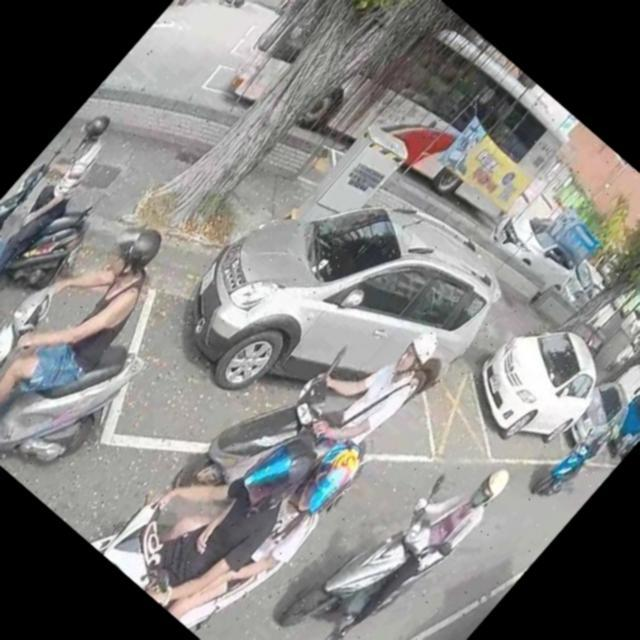person: (128, 381, 384, 640), (96, 376, 335, 626), (0, 195, 193, 469), (305, 434, 518, 640), (280, 292, 454, 474), (0, 100, 135, 324), (538, 416, 618, 502), (225, 0, 263, 10)
